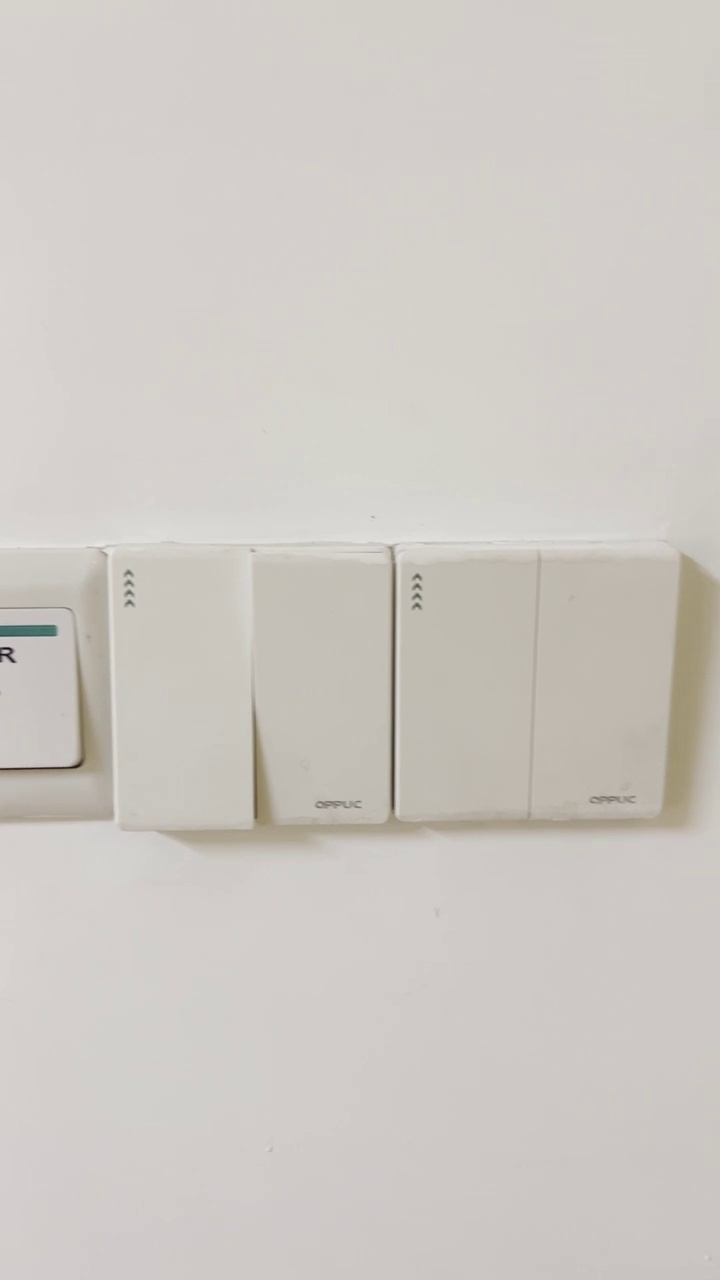button1: (113, 556, 251, 823), (538, 551, 672, 818), (258, 556, 392, 820), (402, 552, 526, 819)
